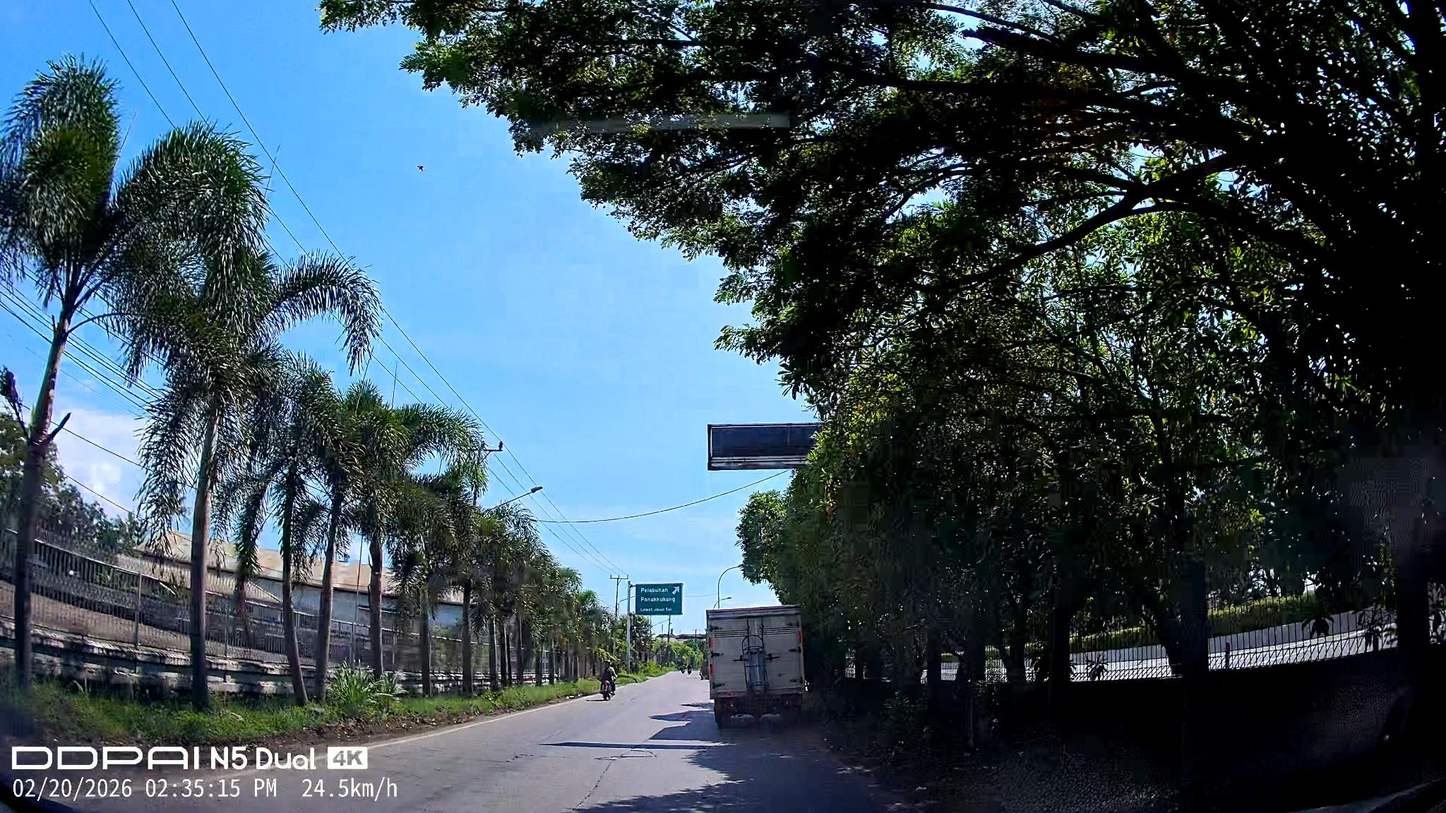rambu_teks: (635, 582, 684, 616)
